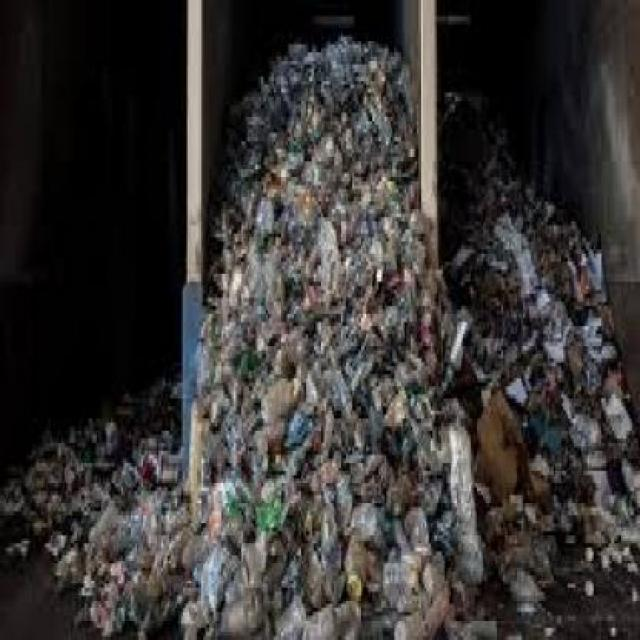garbage: (223, 52, 432, 636), (450, 109, 639, 636), (20, 366, 186, 636), (178, 331, 260, 632), (422, 262, 482, 636)
